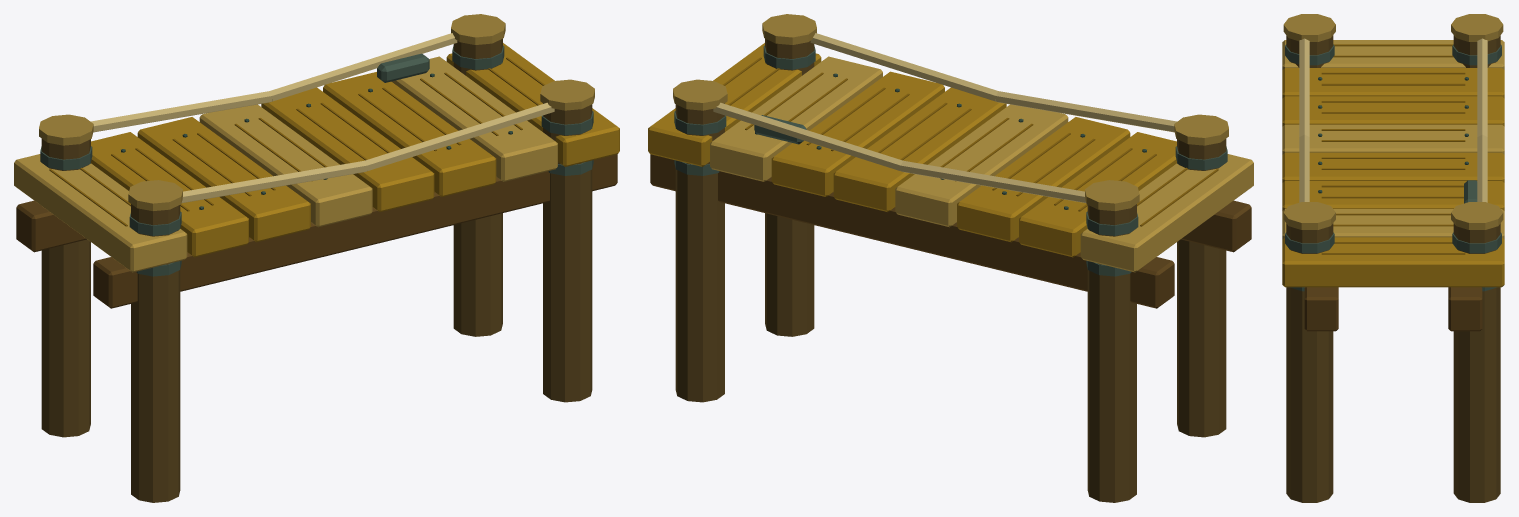
Rendered from pier_detailed.glb.
3 views of the same model, side by side, from view 1: azimuth 30°, elevation 25°; view 2: azimuth 150°, elevation 25°; view 3: azimuth 270°, elevation 25° (orthographic). The views are drawn at different scales.
Visible parts, largest first — view 1: pier_detailed_static; view 2: pier_detailed_static; view 3: pier_detailed_static.
Part boxes in pixels (box(x1,y1,x2,y2)): pier_detailed_static: box(14, 14, 619, 502); pier_detailed_static: box(648, 14, 1253, 502); pier_detailed_static: box(1282, 14, 1504, 502).
Bounding box in the file's own units: 0.42 × 0.237 × 0.17.
